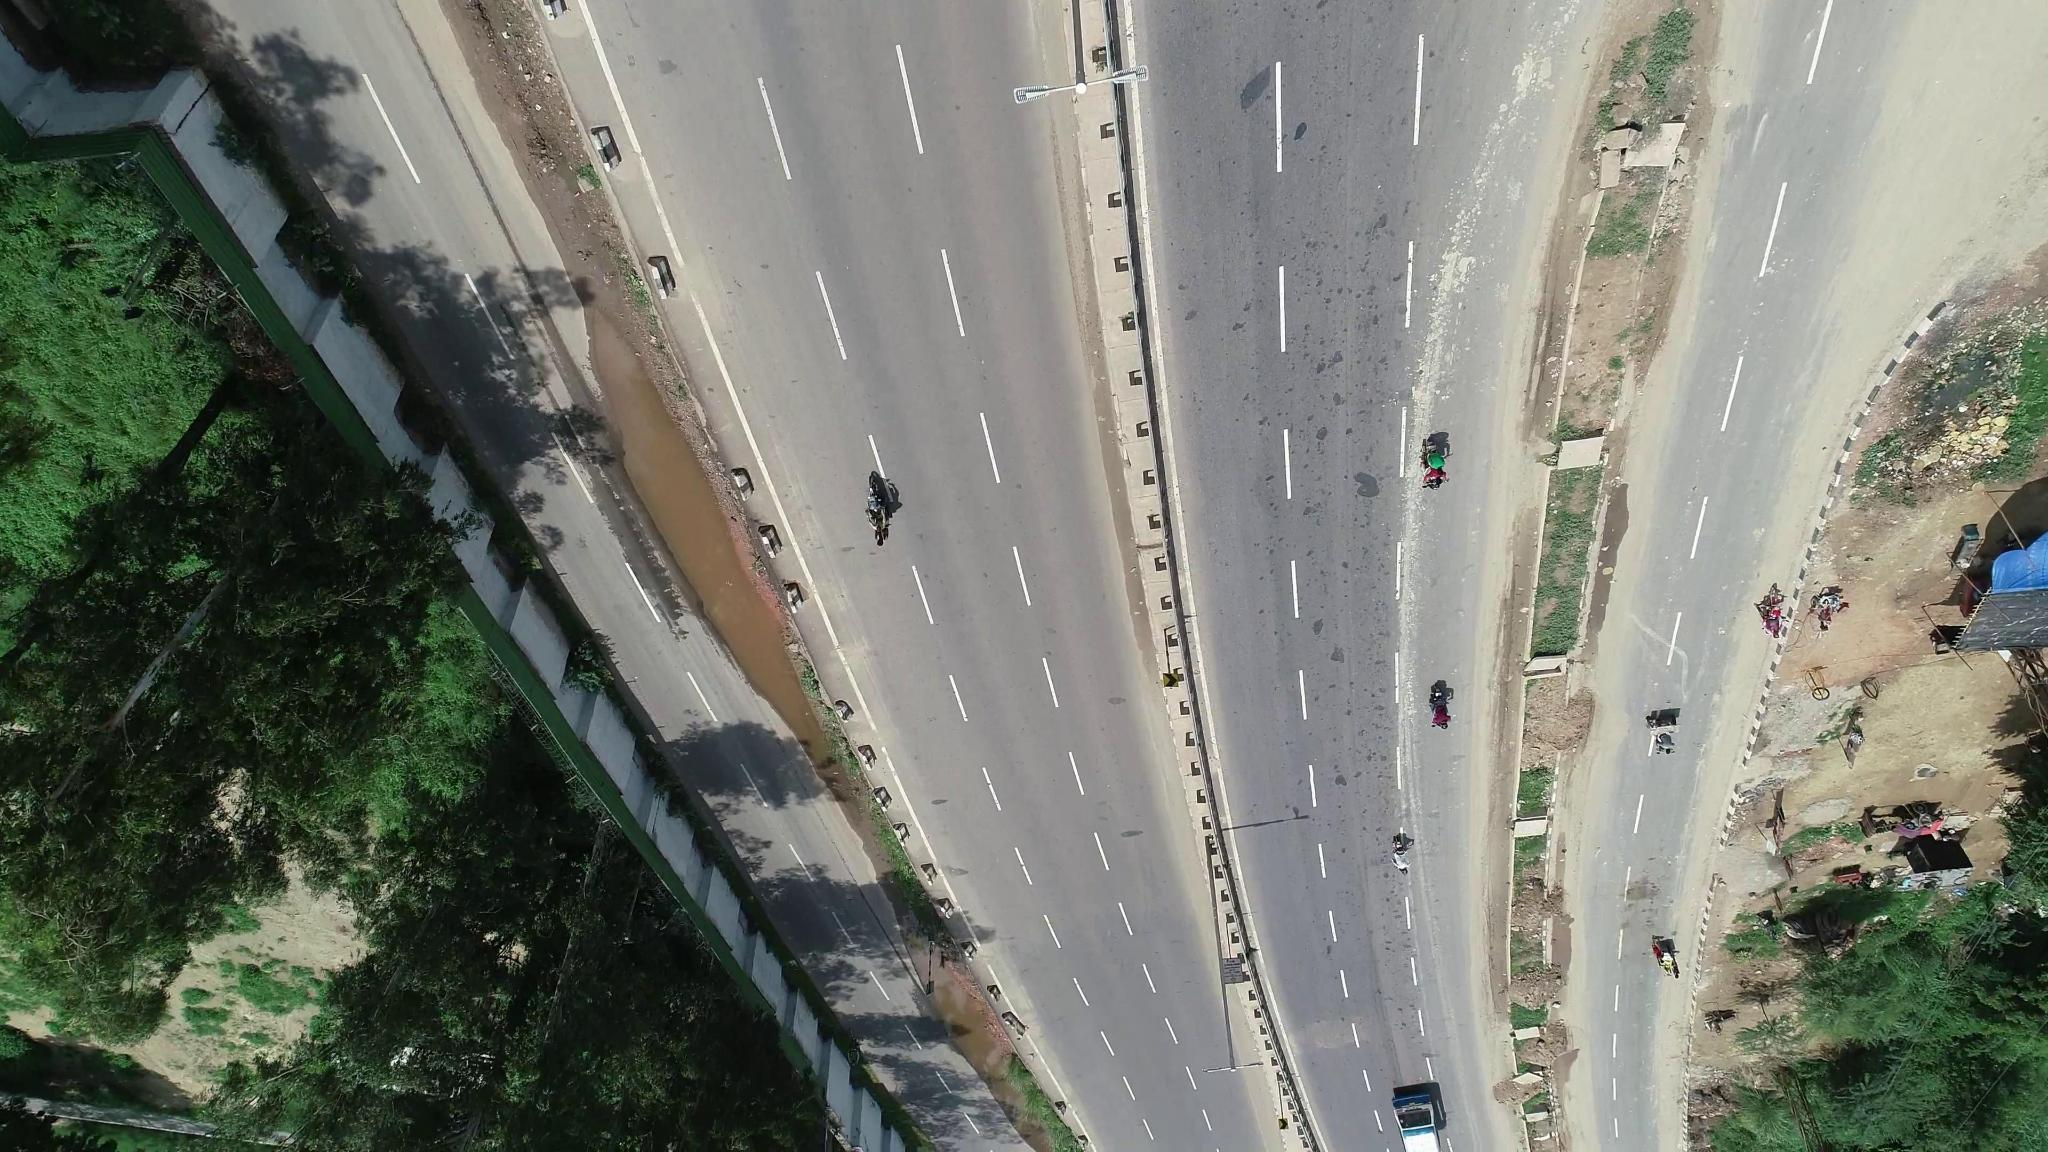Waterlogging: (620, 397, 726, 570), (703, 558, 806, 719)
